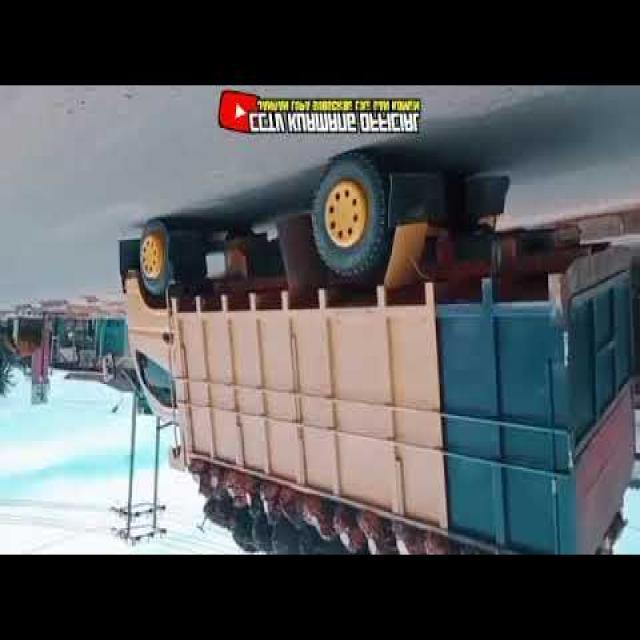truck: (111, 156, 638, 640)
